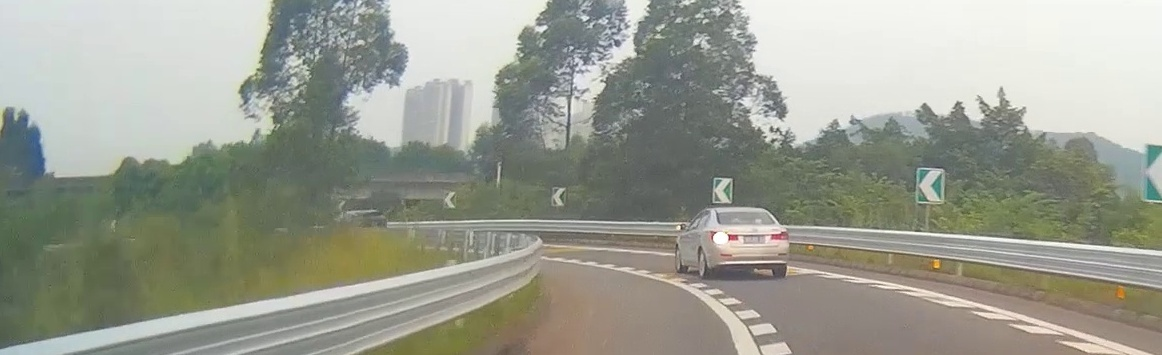L_light: (711, 232, 738, 241)
R_light: (771, 231, 789, 240)
T_light: (740, 211, 751, 214)
day-left: (707, 207, 790, 279)
